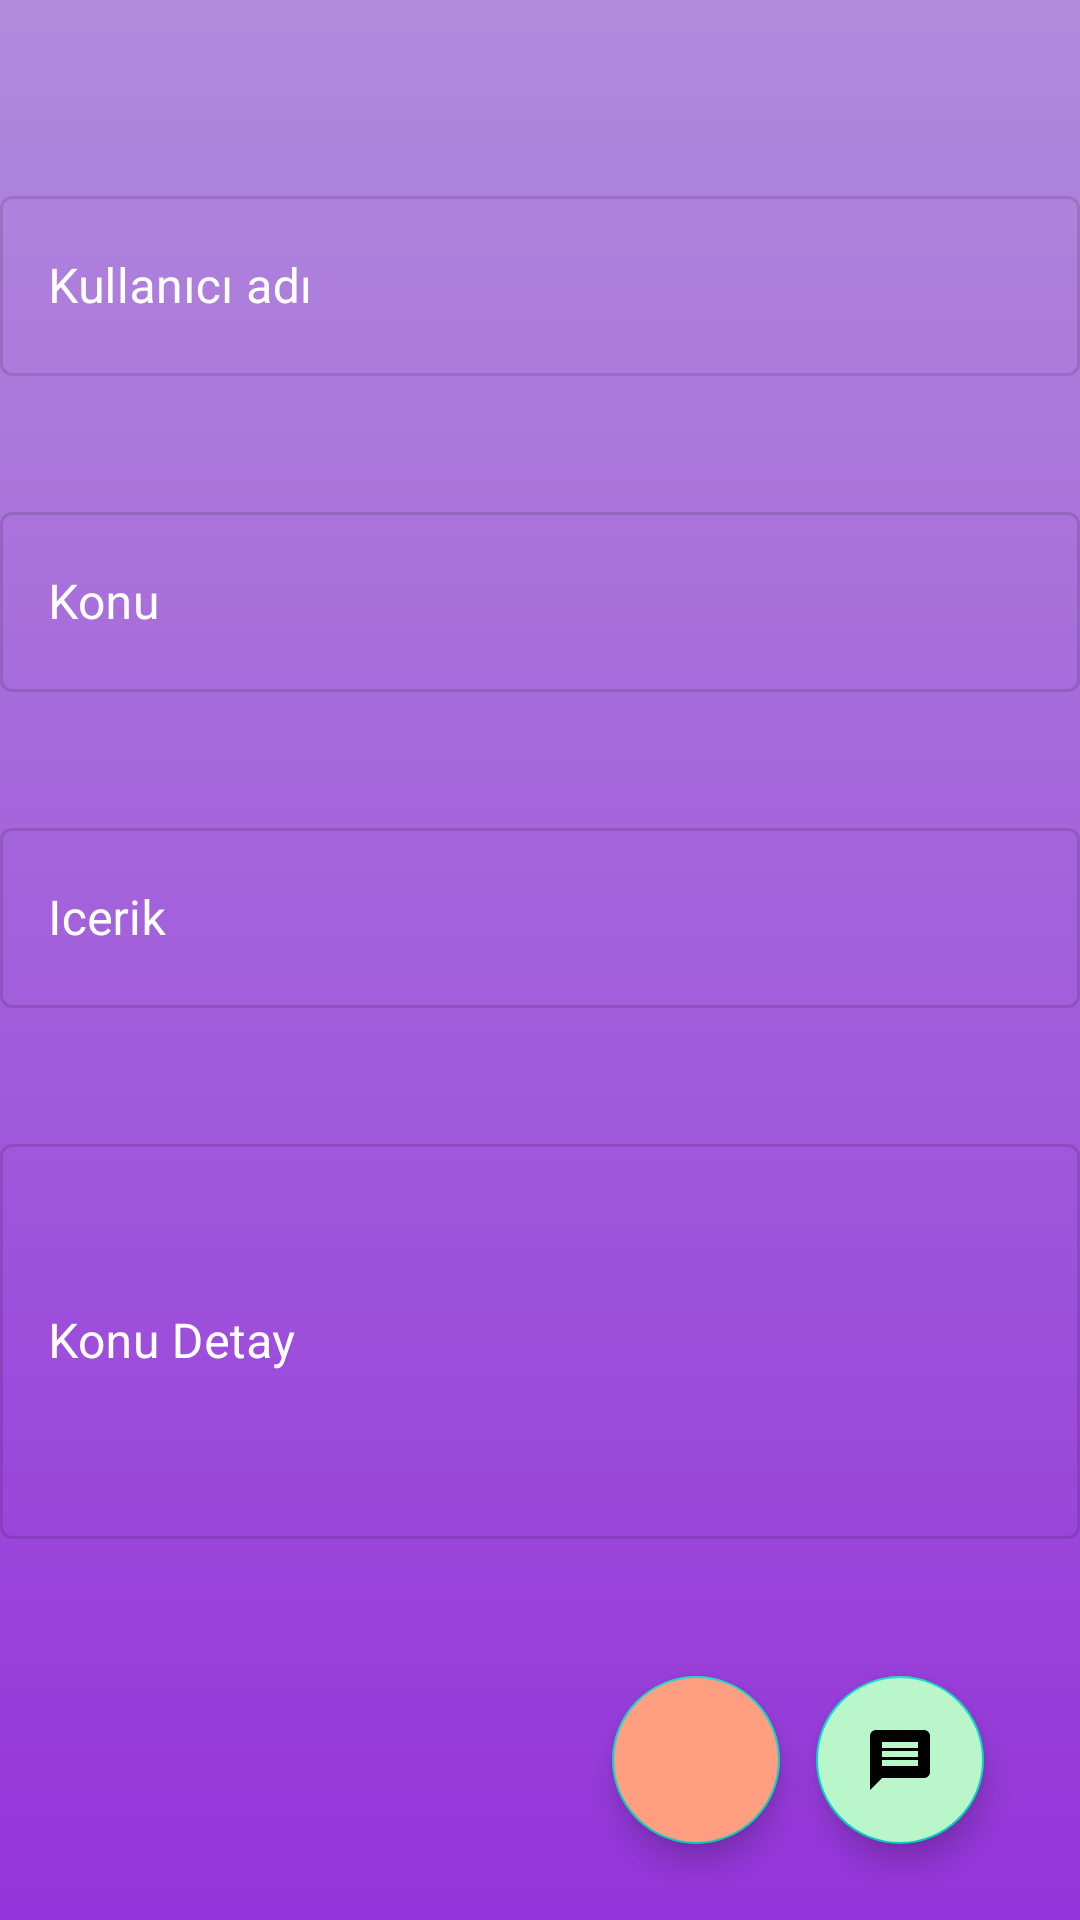

Point at icon controls on the screen. Image size 1080x1920, points as [x,y].
message: [900,1760]
